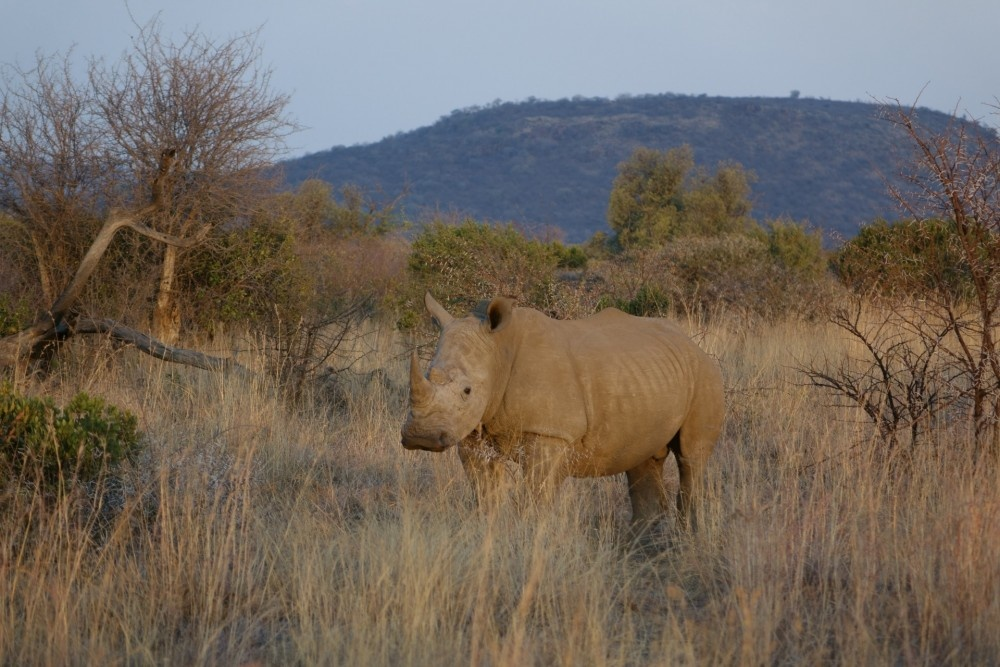rhino: (400, 282, 730, 547)
